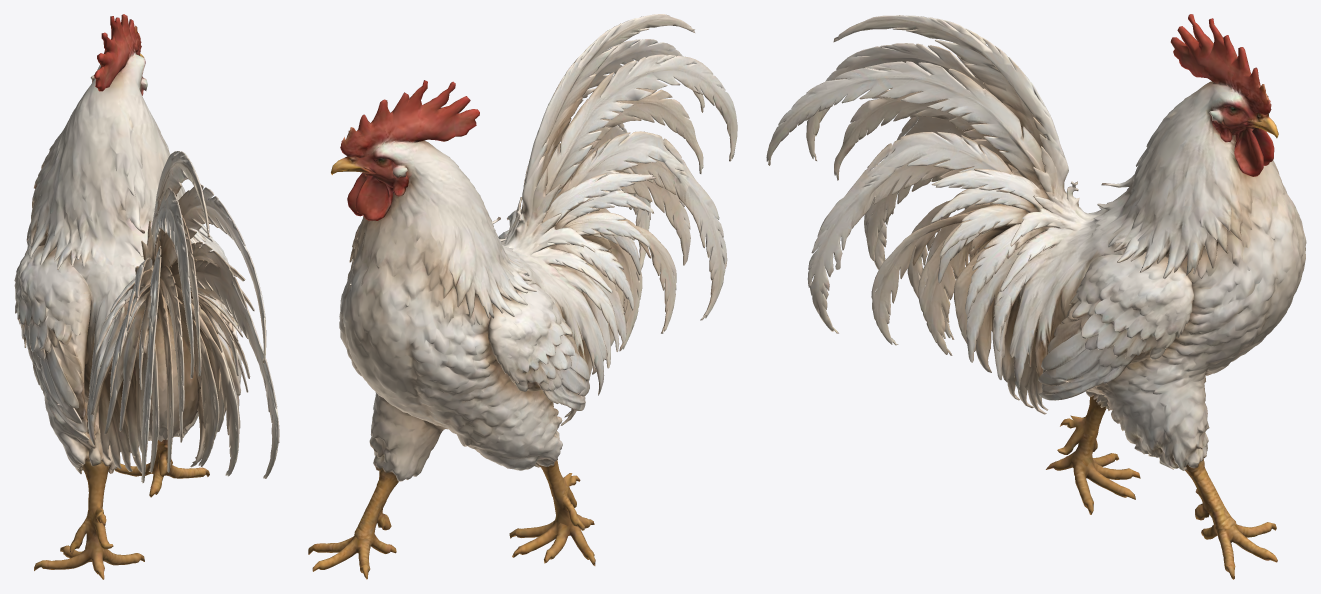
3 views of the same model, side by side, from view 1: azimuth 30°, elevation 25°; view 2: azimuth 150°, elevation 25°; view 3: azimuth 270°, elevation 25° (orthographic). The views are drawn at different scales.
Parts seen in each view (by area): view 1: tripo_node_2d9f586d-9ef1-4d55-accc-b4403c609cfe; view 2: tripo_node_2d9f586d-9ef1-4d55-accc-b4403c609cfe; view 3: tripo_node_2d9f586d-9ef1-4d55-accc-b4403c609cfe.
Boxes of the visible parts, bbox=[...] form: tripo_node_2d9f586d-9ef1-4d55-accc-b4403c609cfe: bbox=[14, 14, 279, 579]; tripo_node_2d9f586d-9ef1-4d55-accc-b4403c609cfe: bbox=[308, 14, 737, 579]; tripo_node_2d9f586d-9ef1-4d55-accc-b4403c609cfe: bbox=[766, 14, 1306, 579].
Bounding box in the file's own units: 0.5026 × 0.9856 × 0.9454.
Materials: 1 (1 with a texture image).
